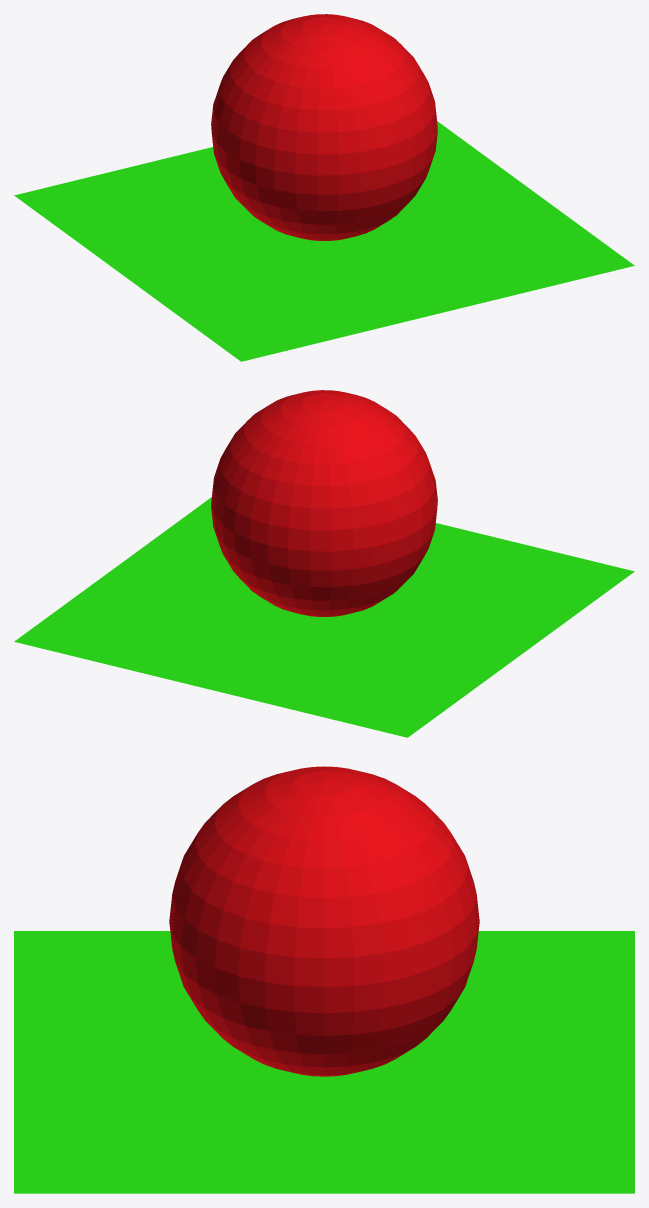
3 views of the same model, one above another, from view 1: azimuth 30°, elevation 25°; view 2: azimuth 150°, elevation 25°; view 3: azimuth 270°, elevation 25° (orthographic). The views are drawn at different scales.
Visible parts, largest first — view 1: Plane, Sphere; view 2: Plane, Sphere; view 3: Plane, Sphere.
Boxes of the visible parts, x1,y1,x2,y2 form: Plane: (14, 121, 634, 361); Sphere: (211, 14, 437, 240); Plane: (14, 497, 634, 737); Sphere: (211, 390, 437, 616); Plane: (14, 931, 634, 1193); Sphere: (169, 766, 479, 1076).
Bounding box in the file's own units: 1 × 0.5 × 1.
